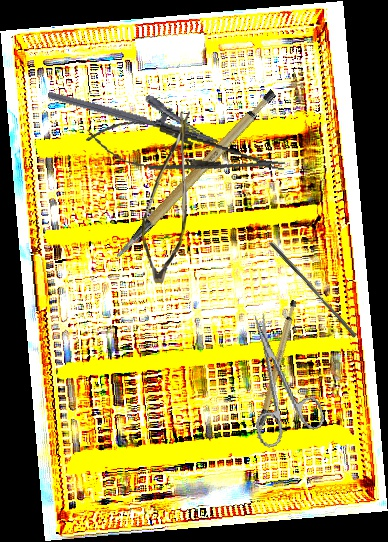Iris Scissors: (228, 304, 328, 450)
Micro Scissor: (137, 108, 197, 284)
Needle Holder: (82, 113, 291, 191), (46, 67, 226, 148)
Pusher: (265, 240, 361, 339)
Scalpel Handle: (92, 86, 296, 259), (234, 298, 315, 440)
